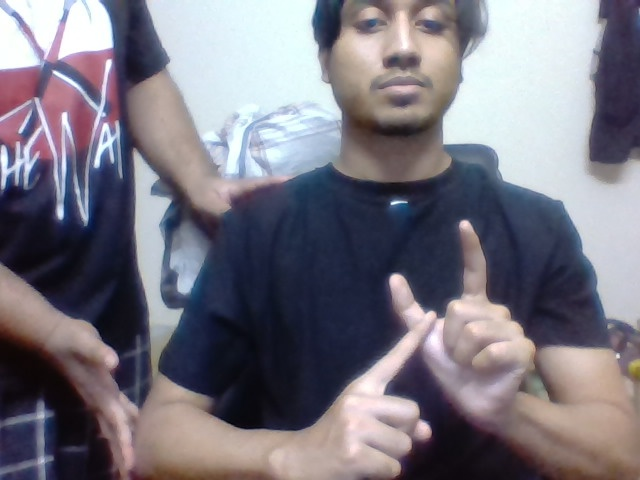Y: (375, 216, 492, 386)
